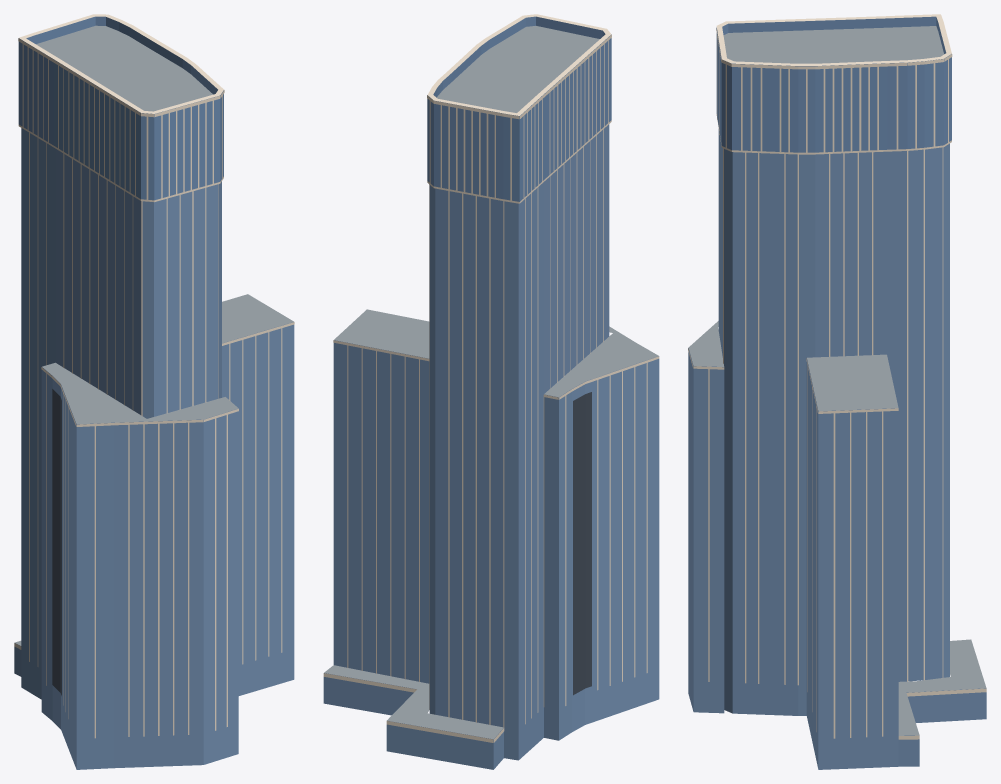
Rendered from bos-winthrop-center.glb.
3 views of the same model, side by side, from view 1: azimuth 30°, elevation 25°; view 2: azimuth 150°, elevation 25°; view 3: azimuth 270°, elevation 25° (orthographic).
Parts seen in each view (by area): view 1: Winthrop Center; view 2: Winthrop Center; view 3: Winthrop Center.
Part boxes in pixels (bbox=[...]): Winthrop Center: bbox=[14, 14, 294, 769]; Winthrop Center: bbox=[323, 14, 659, 769]; Winthrop Center: bbox=[688, 14, 986, 769].
Bounding box in the file's own units: 87.03 × 210 × 87.62.
